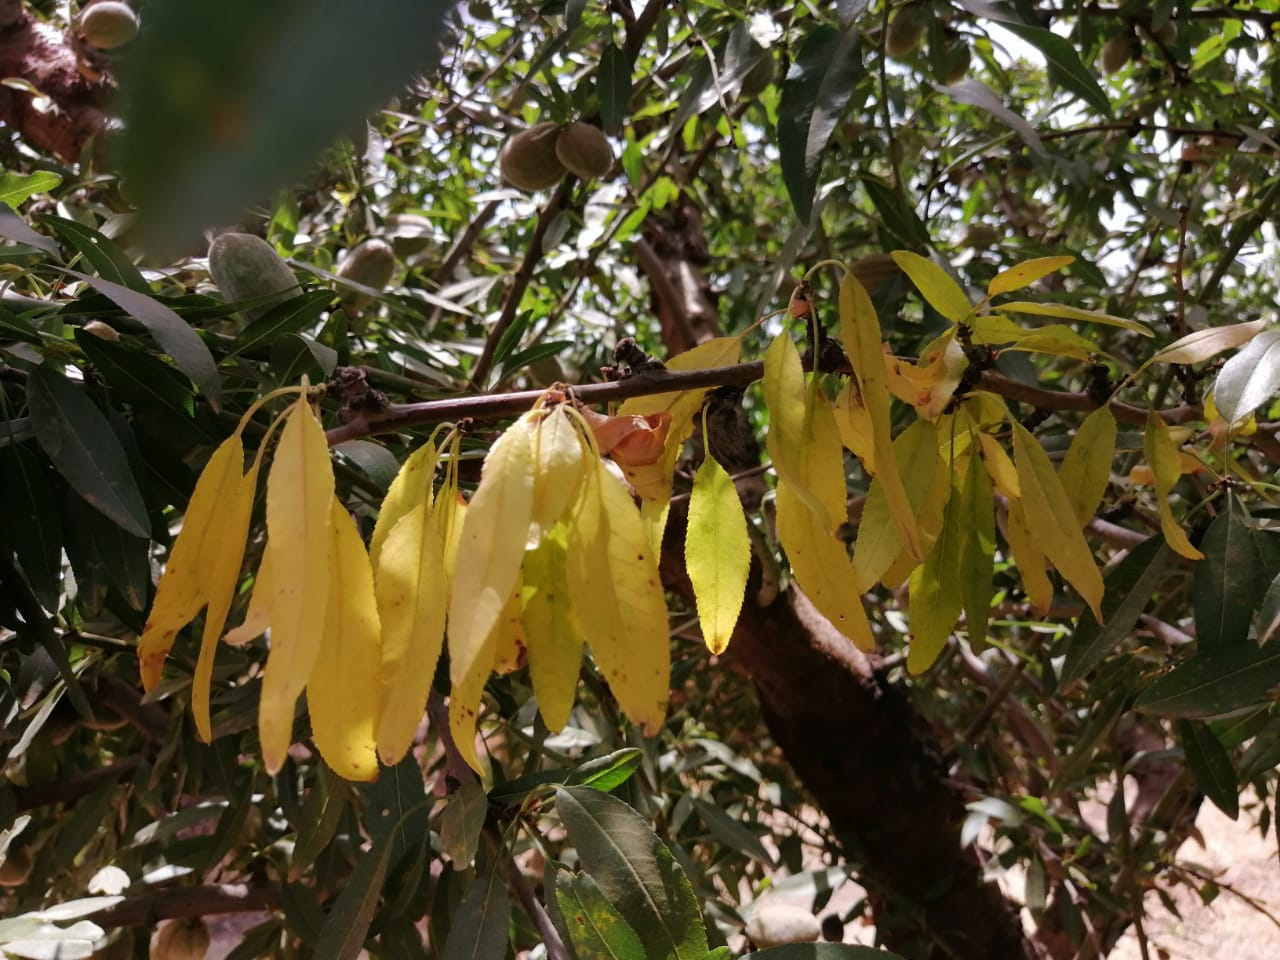chancre fusicocum: (137, 245, 1280, 779)
